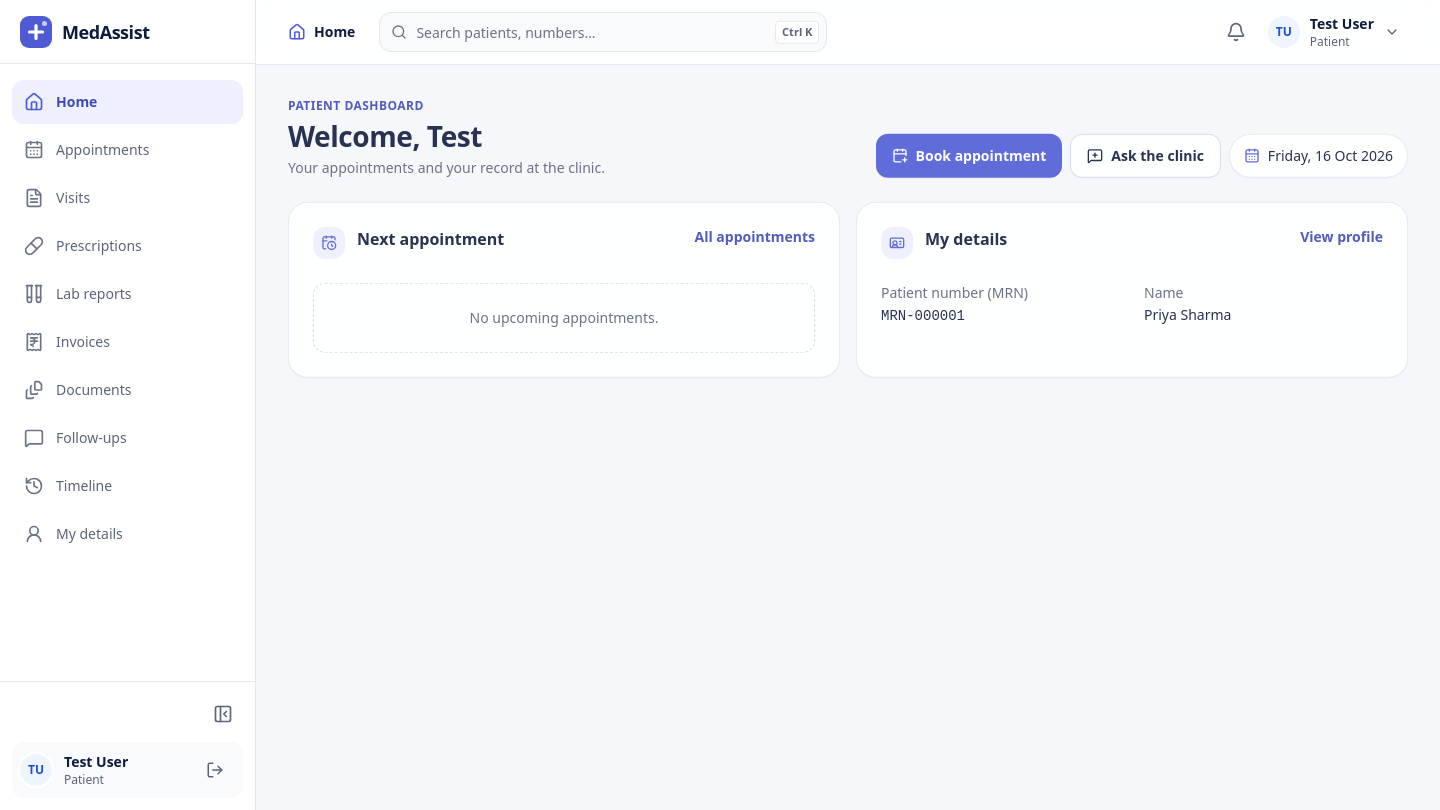
it: Notification bell › "View all" goes to /notifications
This screenshot has width=1440, height=810.
Click the button named "Notifications".
click(1236, 32)  # box 1214,10 -> 1258,54
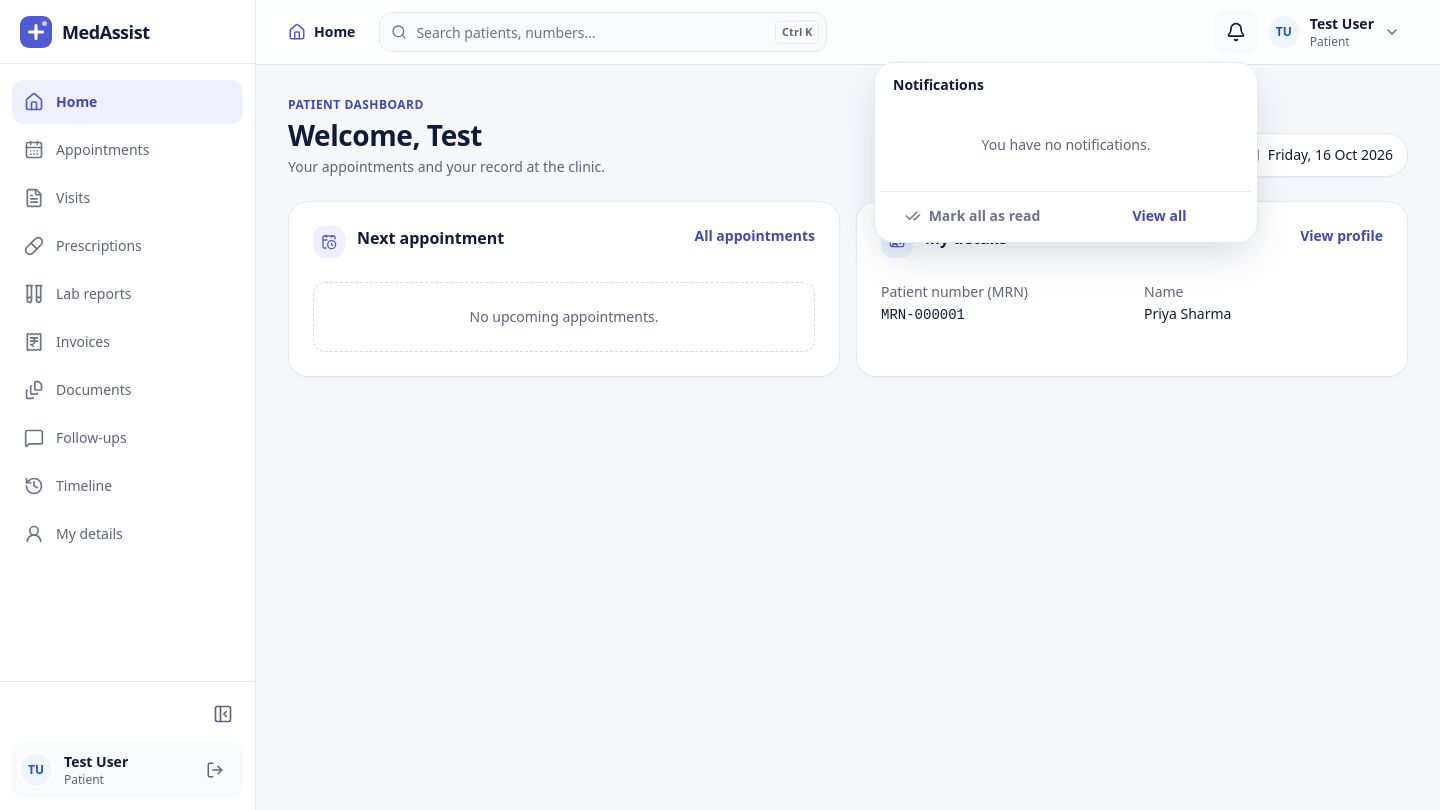
Click the menu item "View all".
click(1160, 216)  # box 1132,206 -> 1186,225
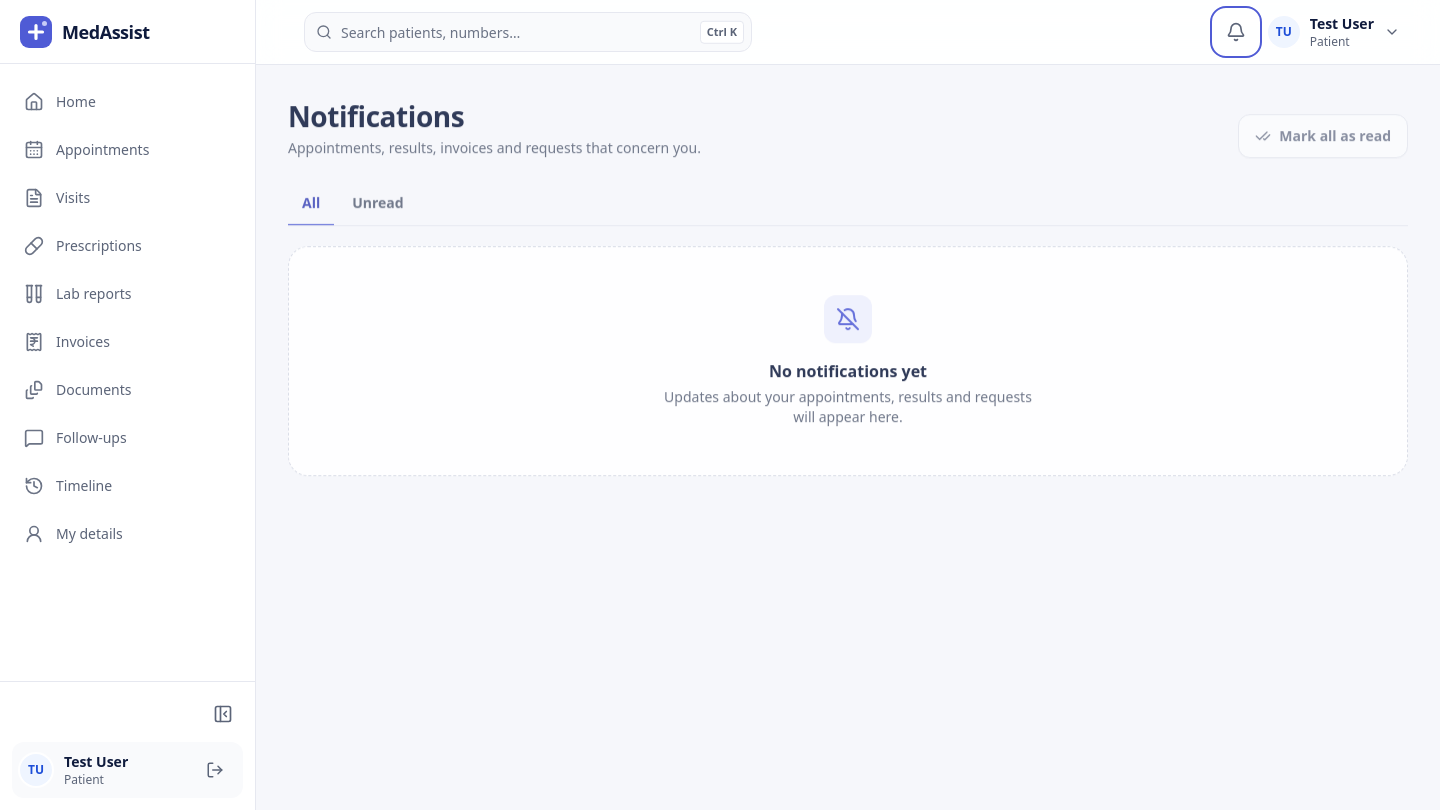
Expected: the heading "Notifications" is shown, 288,96 -> 464,134
Expected: the text "No notifications yet" is shown, 769,358 -> 927,382
